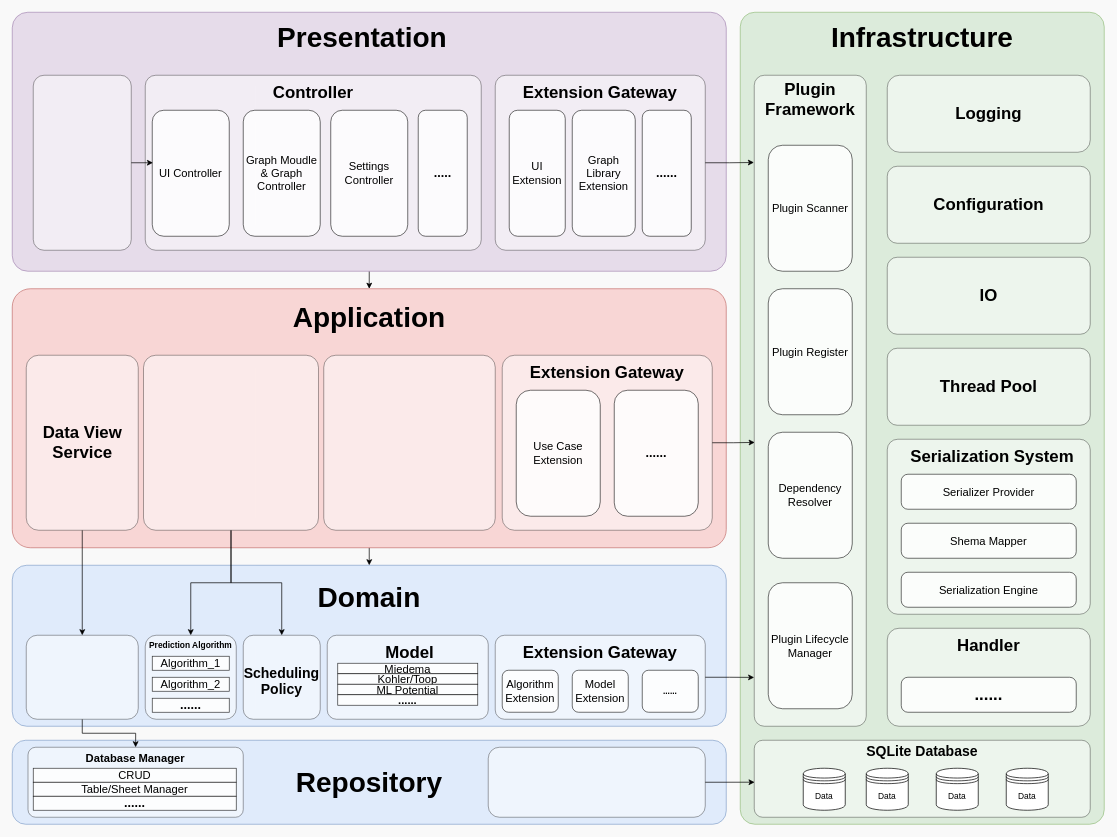
Some shapes in this 1117 by 837 pixel diagram are drawn without their labels. Each missing label, with the centre of its shape:
"Compute Orchestrator" belongs at point 230,442.
"Database Driver" belongs at point 596,782.
"Repository Provider" belongs at point 82,677.
"Use Case Service" belongs at point 409,442.
"User Interface" belongs at point 82,162.
